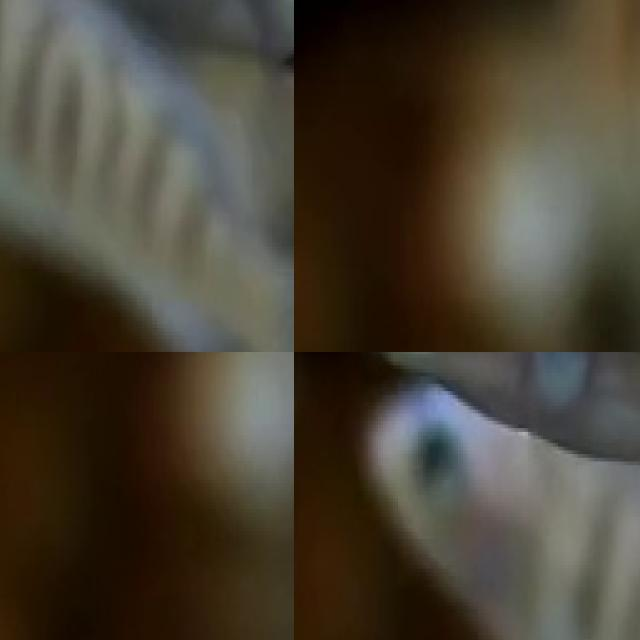fish: (0, 0, 294, 352), (358, 376, 640, 640)
